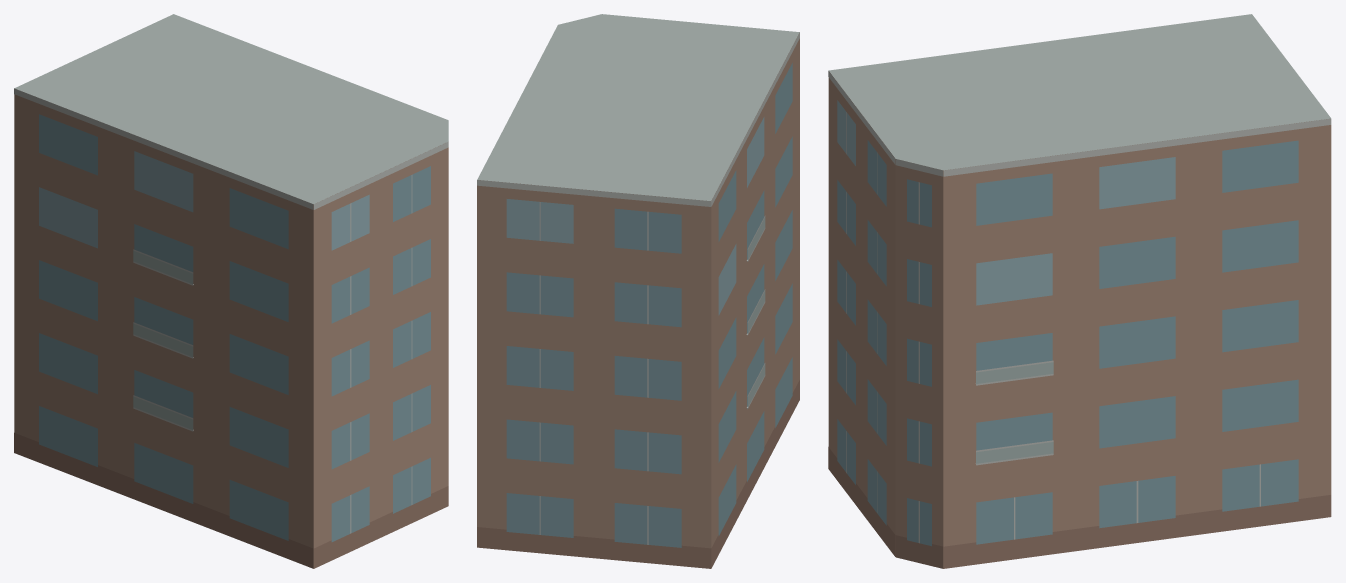
Rendered from survey-upis-32619368.glb.
3 views of the same model, side by side, from view 1: azimuth 30°, elevation 25°; view 2: azimuth 150°, elevation 25°; view 3: azimuth 270°, elevation 25° (orthographic). The views are drawn at different scales.
Visible parts, largest first — view 1: survey-upis-32619368.tmp; view 2: survey-upis-32619368.tmp; view 3: survey-upis-32619368.tmp.
Part boxes in pixels (box(x1,y1,x2,y2)): survey-upis-32619368.tmp: box(14, 14, 448, 568); survey-upis-32619368.tmp: box(477, 14, 799, 568); survey-upis-32619368.tmp: box(828, 14, 1331, 568).
Bounding box in the file's own units: 12.84 × 15.25 × 17.45.
